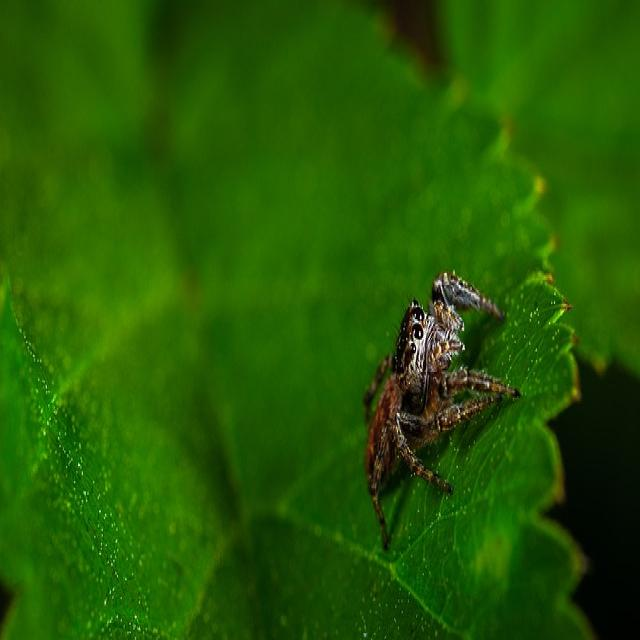spyder: (365, 273, 519, 547)
